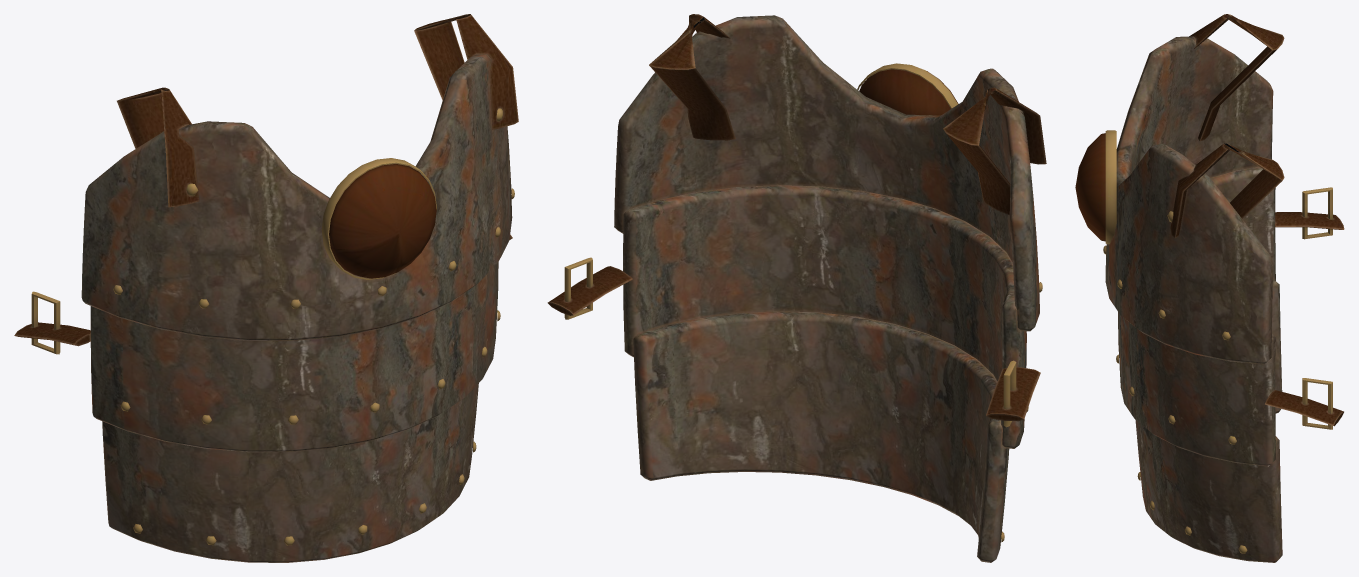
File: pickup_armor.glb
3 renders of one model, left to right at view 1: azimuth 30°, elevation 25°; view 2: azimuth 150°, elevation 25°; view 3: azimuth 270°, elevation 25°, orthographic. The views are drawn at different scales.
Parts seen in each view (by area): view 1: pickup_armor; view 2: pickup_armor; view 3: pickup_armor.
Part boxes in pixels (bbox=[...]): pickup_armor: bbox=[14, 14, 518, 562]; pickup_armor: bbox=[547, 14, 1046, 562]; pickup_armor: bbox=[1075, 14, 1344, 562].
Bounding box in the file's own units: 0.4472 × 0.4157 × 0.2414.
Materials: 1 (1 with a texture image).
